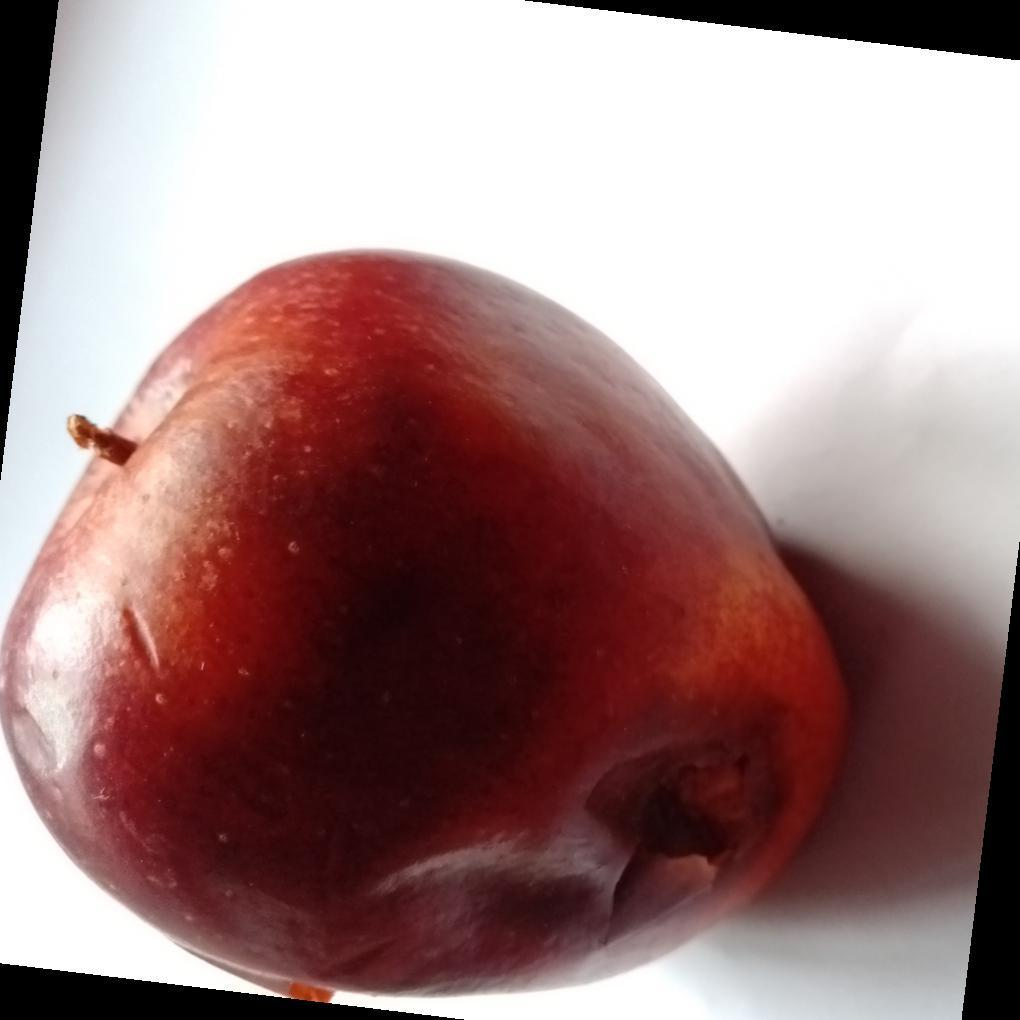FreshOrange: (0, 250, 853, 1017)
